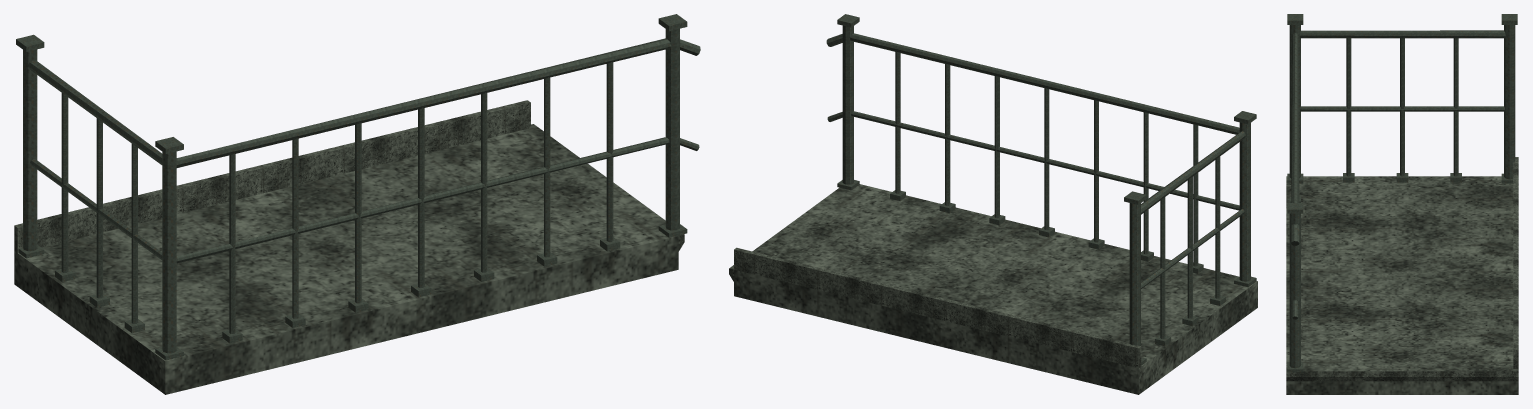
File: SM_Stair_Landing.fbx
The picture shows the model from 3 angles, left to right: view 1: azimuth 30°, elevation 25°; view 2: azimuth 150°, elevation 25°; view 3: azimuth 270°, elevation 25°; orthographic projection. The views are drawn at different scales.
Visible parts, largest first — view 1: SM_Stair_Landing; view 2: SM_Stair_Landing; view 3: SM_Stair_Landing.
Boxes of the visible parts, x1=… form: SM_Stair_Landing: x1=14, y1=14, x2=700, y2=394; SM_Stair_Landing: x1=729, y1=14, x2=1257, y2=394; SM_Stair_Landing: x1=1286, y1=14, x2=1518, y2=394.
Bounding box in the file's own units: 2.68 × 1.16 × 1.3.
